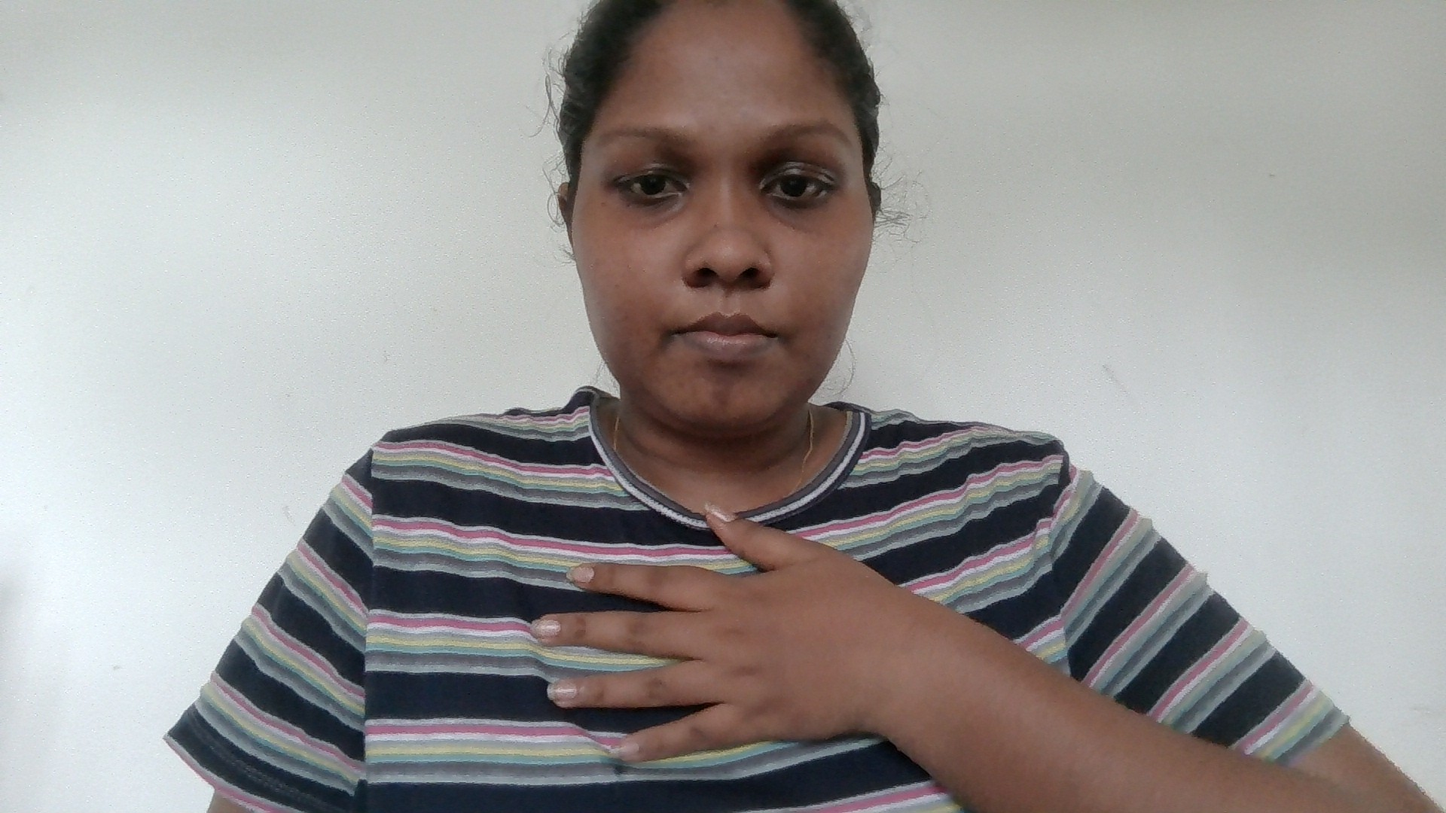Please: (476, 475, 1035, 792)
